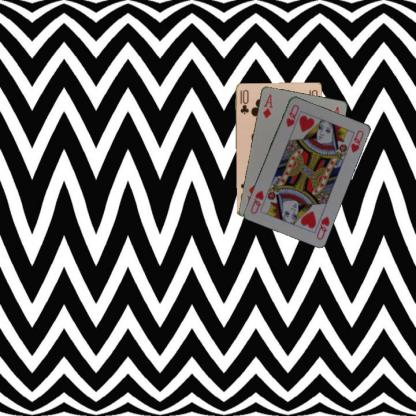10c: (238, 87, 249, 115)
Ad: (260, 91, 274, 119)
Qh: (283, 102, 301, 129), (314, 213, 331, 241)
